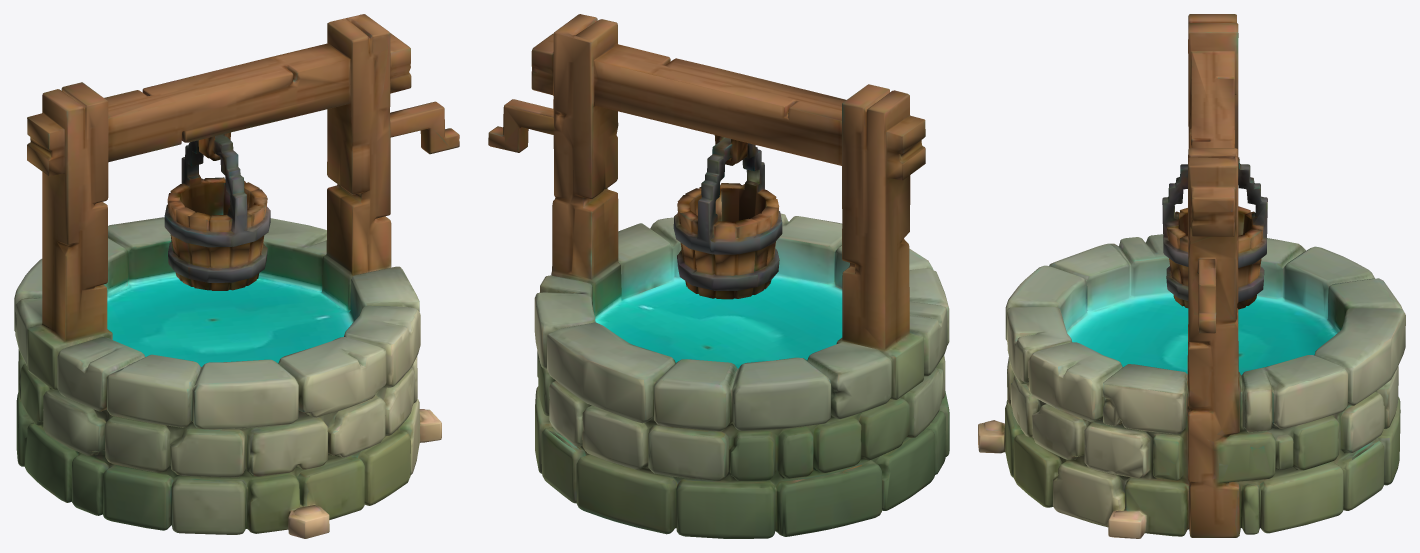
The model's file is well.glb.
3 renders of one model, left to right at view 1: azimuth 30°, elevation 25°; view 2: azimuth 150°, elevation 25°; view 3: azimuth 270°, elevation 25°, orthographic. The views are drawn at different scales.
Parts seen in each view (by area): view 1: node_0; view 2: node_0; view 3: node_0.
Part boxes in pixels (x1=…): node_0: x1=14, y1=14, x2=459, y2=538; node_0: x1=488, y1=14, x2=949, y2=538; node_0: x1=978, y1=14, x2=1405, y2=538.
Bounding box in the file's own units: 0.8998 × 0.798 × 0.8325.
1 material, 1 textured.
